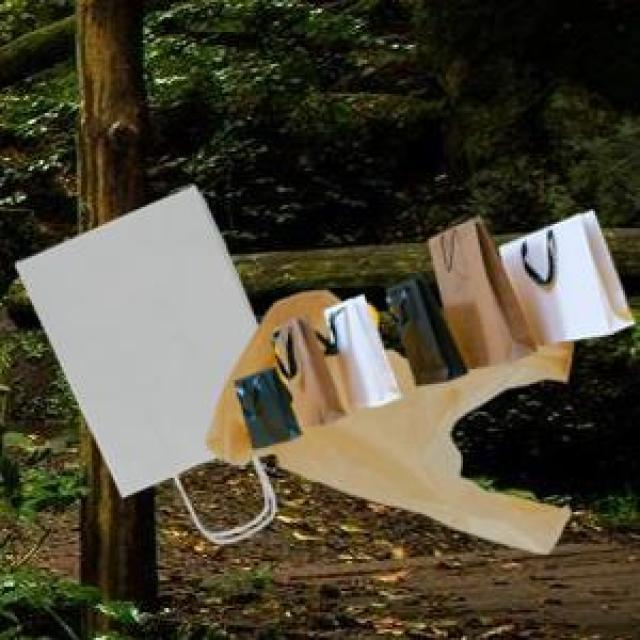paper: (230, 207, 629, 444), (11, 181, 271, 540)
